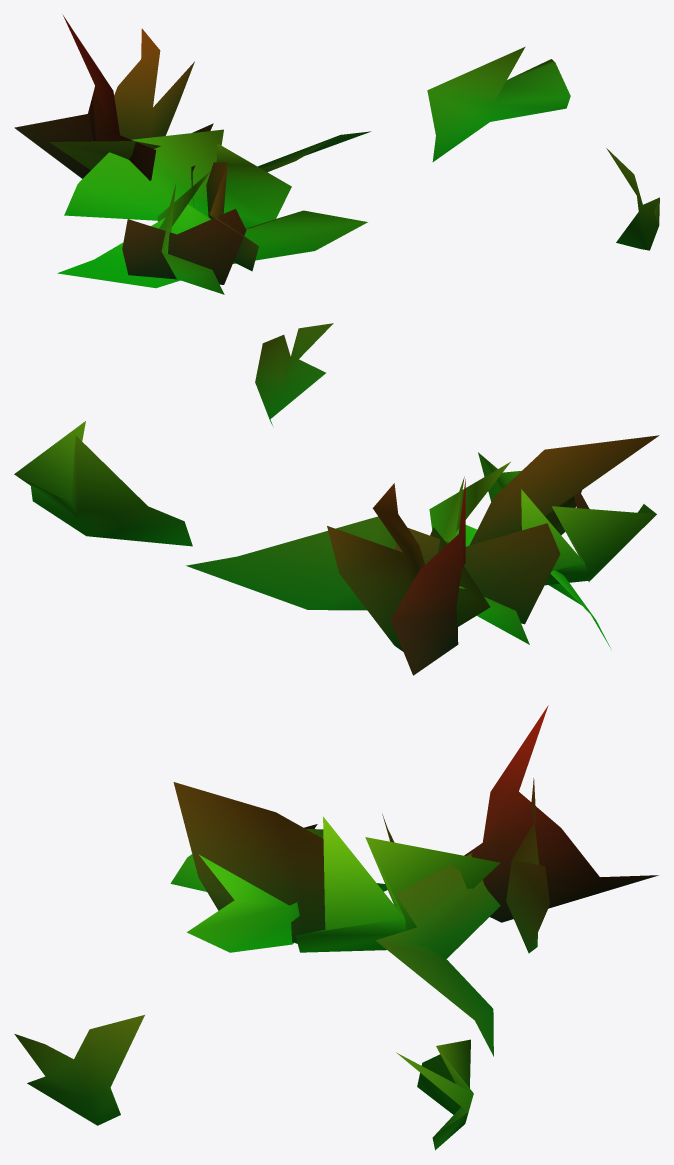
Rendered from SM_OW_GrassLawn_a_LOD2.fbx.
3 renders of one model, top to bottom at view 1: azimuth 30°, elevation 25°; view 2: azimuth 150°, elevation 25°; view 3: azimuth 270°, elevation 25°, orthographic. The views are drawn at different scales.
Parts seen in each view (by area): view 1: SM_OW_GrassLawn_a_LOD2; view 2: SM_OW_GrassLawn_a_LOD2; view 3: SM_OW_GrassLawn_a_LOD2.
Part boxes in pixels (bbox=[...]): SM_OW_GrassLawn_a_LOD2: bbox=[14, 14, 659, 294]; SM_OW_GrassLawn_a_LOD2: bbox=[14, 323, 659, 675]; SM_OW_GrassLawn_a_LOD2: bbox=[14, 705, 658, 1150].
Size of the model in its own units: 0.6168 by 0.2182 by 0.5713.
